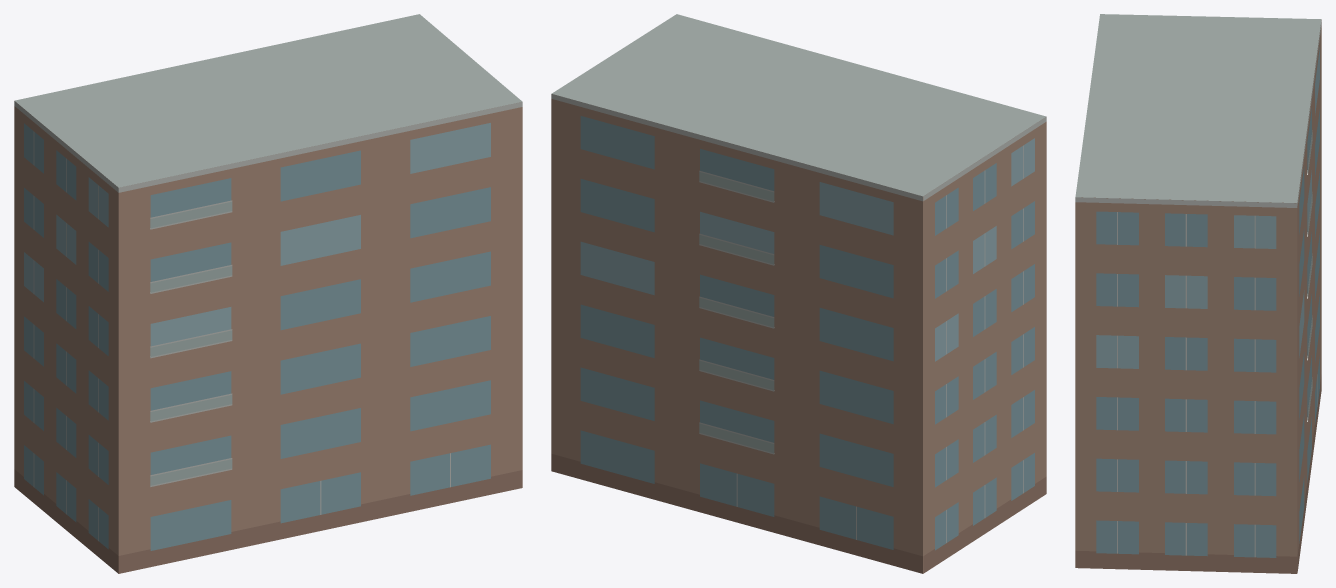
File: survey-upis-32552679.glb
3 renders of one model, left to right at view 1: azimuth 30°, elevation 25°; view 2: azimuth 150°, elevation 25°; view 3: azimuth 270°, elevation 25°, orthographic. The views are drawn at different scales.
Visible parts, largest first — view 1: survey-upis-32552679.tmp; view 2: survey-upis-32552679.tmp; view 3: survey-upis-32552679.tmp.
Boxes of the visible parts, box(x1,y1,x2,y2) form: survey-upis-32552679.tmp: box(14, 14, 522, 573); survey-upis-32552679.tmp: box(551, 14, 1046, 573); survey-upis-32552679.tmp: box(1075, 14, 1321, 573).
Size of the model in its own units: 20.03 by 18.3 by 11.02.
